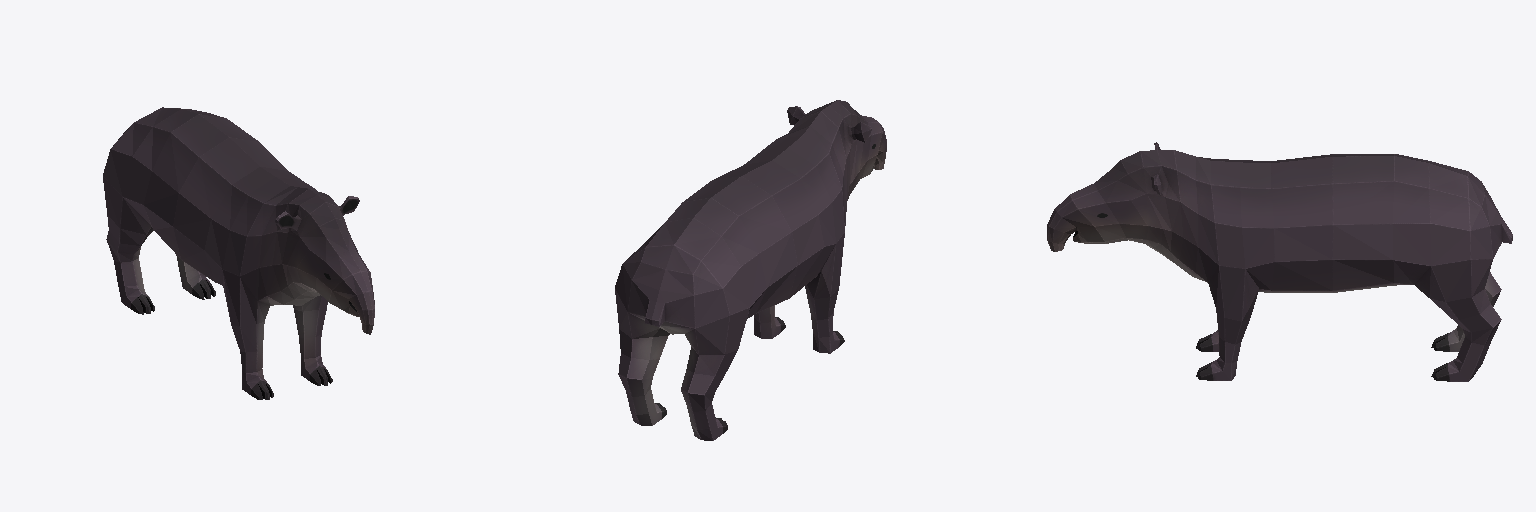
3 views of the same model, side by side, from view 1: azimuth 30°, elevation 25°; view 2: azimuth 150°, elevation 25°; view 3: azimuth 270°, elevation 25° (orthographic).
Parts seen in each view (by area): view 1: Tapir_mesh; view 2: Tapir_mesh; view 3: Tapir_mesh.
Boxes of the visible parts, box(x1,y1,x2,y2) form: Tapir_mesh: box(103, 107, 374, 399); Tapir_mesh: box(615, 100, 886, 440); Tapir_mesh: box(1047, 142, 1512, 381).
Bounding box in the file's own units: 1.9 × 3.33 × 6.63.
1 materials, 1 textured.